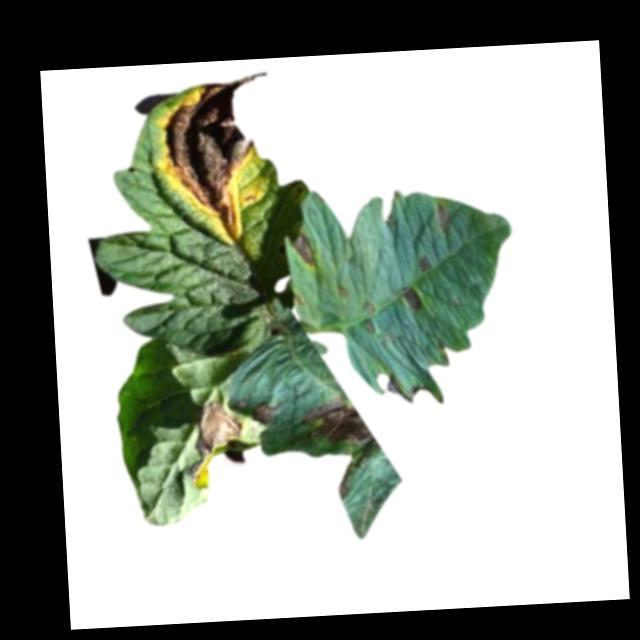Early_blight: (163, 67, 279, 244), (303, 388, 382, 503), (187, 395, 247, 494), (288, 230, 318, 269), (252, 398, 280, 427), (401, 284, 425, 311), (435, 201, 452, 235), (415, 253, 436, 274), (360, 316, 375, 330)
